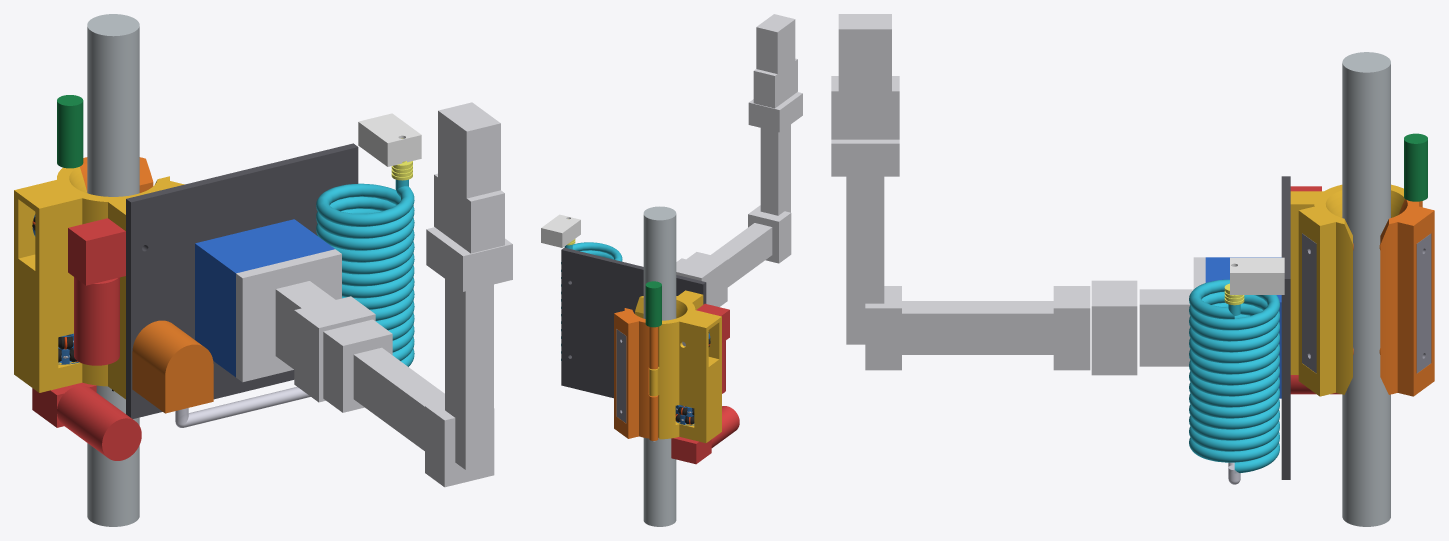
The model's file is cart-water-sampler.glb.
3 views of the same model, side by side, from view 1: azimuth 30°, elevation 25°; view 2: azimuth 150°, elevation 25°; view 3: azimuth 270°, elevation 25° (orthographic). The views are drawn at different scales.
Parts seen in each view (by area): view 1: cart_so101_arm_envelope, cart_base_plate, cart_hand_on_pipe_B_sleeve, cart_track_pipe_B, sampler_pu_coil, cart_battery, sampler_pump, cart_hand_on_pipe_B_roll_motor, cart_hand_on_pipe_B_drive_motor, cart_hand_on_pipe_B_drive_gearbox, sampler_parking_socket, sampler_silicone_link (+3 smaller); view 2: cart_so101_arm_envelope, cart_base_plate, cart_hand_on_pipe_B_sleeve, cart_track_pipe_B, cart_hand_on_pipe_B_jaw, sampler_parking_socket, cart_hand_on_pipe_B_p60_cap, cart_hand_on_pipe_B_roll_gearbox, sampler_pu_coil, cart_hand_on_pipe_B_jaw_motor, cart_hand_on_pipe_B_roll_motor, cart_hand_on_pipe_B_drive_gearbox; view 3: cart_so101_arm_envelope, cart_track_pipe_B, sampler_pu_coil, cart_hand_on_pipe_B_sleeve, cart_hand_on_pipe_B_jaw, cart_base_plate, sampler_parking_socket, cart_hand_on_pipe_B_p60_cap, cart_hand_on_pipe_B_m60_cap, cart_hand_on_pipe_B_jaw_motor, cart_battery.
Boxes of the visible parts, box(x1,y1,x2,y2) form: cart_so101_arm_envelope: box(236, 102, 512, 487); cart_base_plate: box(126, 143, 358, 418); cart_hand_on_pipe_B_sleeve: box(14, 167, 184, 399); cart_track_pipe_B: box(87, 14, 139, 526); sampler_pu_coil: box(316, 183, 414, 366); cart_battery: box(195, 219, 334, 377); sampler_pump: box(132, 320, 213, 413); cart_hand_on_pipe_B_roll_motor: box(57, 385, 141, 460); cart_hand_on_pipe_B_drive_motor: box(74, 277, 119, 365); cart_hand_on_pipe_B_drive_gearbox: box(68, 218, 125, 285); sampler_parking_socket: box(358, 113, 421, 166); sampler_silicone_link: box(175, 387, 310, 427); cart_so101_arm_envelope: box(676, 14, 802, 306); cart_base_plate: box(561, 247, 706, 398); cart_hand_on_pipe_B_sleeve: box(635, 290, 721, 443); cart_track_pipe_B: box(643, 206, 676, 526); cart_hand_on_pipe_B_jaw: box(614, 308, 658, 440); sampler_parking_socket: box(541, 214, 580, 247); cart_hand_on_pipe_B_p60_cap: box(616, 329, 626, 423); cart_hand_on_pipe_B_roll_gearbox: box(671, 437, 711, 464); sampler_pu_coil: box(561, 242, 622, 360); cart_hand_on_pipe_B_jaw_motor: box(645, 281, 661, 315); cart_hand_on_pipe_B_roll_motor: box(711, 406, 739, 447); cart_hand_on_pipe_B_drive_gearbox: box(696, 303, 729, 342); cart_so101_arm_envelope: box(831, 14, 1205, 375); cart_track_pipe_B: box(1342, 52, 1390, 526); sampler_pu_coil: box(1189, 279, 1279, 473); cart_hand_on_pipe_B_sleeve: box(1290, 184, 1404, 396); cart_hand_on_pipe_B_jaw: box(1380, 199, 1434, 396); cart_base_plate: box(1281, 176, 1290, 479); sampler_parking_socket: box(1230, 257, 1284, 294); cart_hand_on_pipe_B_p60_cap: box(1416, 233, 1431, 373); cart_hand_on_pipe_B_m60_cap: box(1302, 233, 1316, 373); cart_hand_on_pipe_B_jaw_motor: box(1404, 133, 1427, 185); cart_battery: box(1205, 257, 1281, 398).
Bounding box in the file's own units: 226 × 388 × 397.
